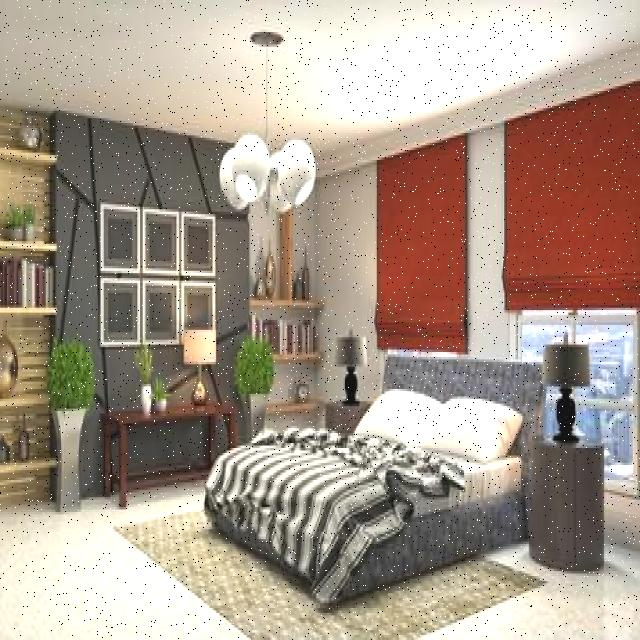bed: (226, 361, 530, 581)
